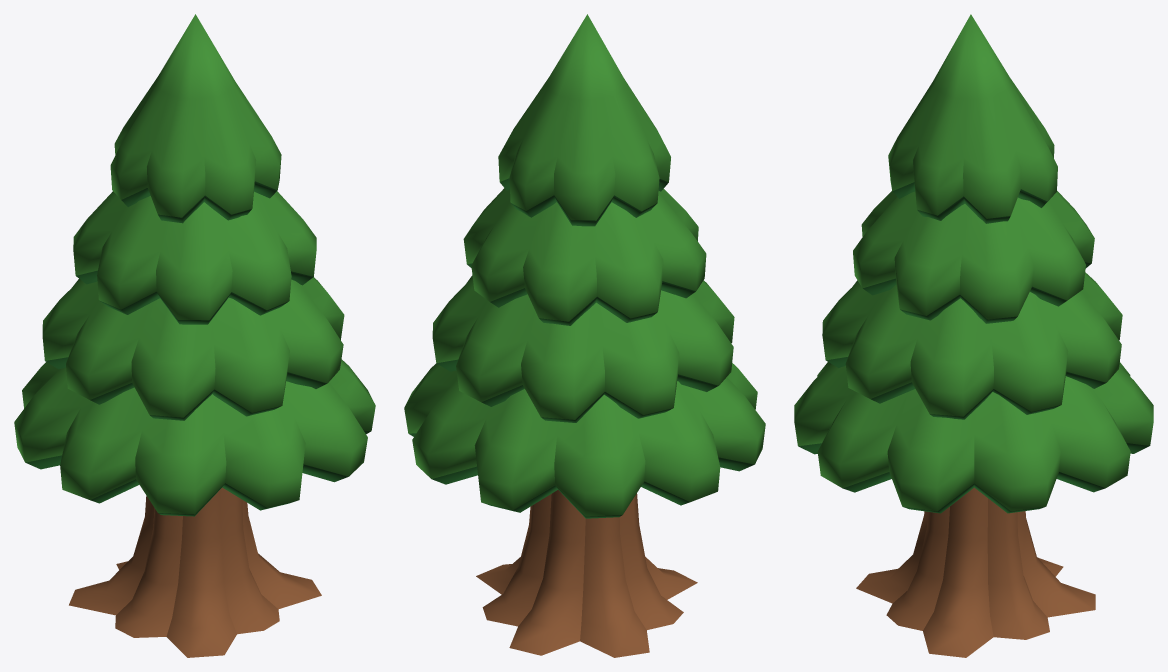
Rendered from tree_pine_low.glb.
The picture shows the model from 3 angles, left to right: view 1: azimuth 30°, elevation 25°; view 2: azimuth 150°, elevation 25°; view 3: azimuth 270°, elevation 25°; orthographic projection.
Visible parts, largest first — view 1: Tree; view 2: Tree; view 3: Tree.
Boxes of the visible parts, box(x1,y1,x2,y2) form: Tree: box(14, 14, 375, 657); Tree: box(404, 14, 765, 657); Tree: box(794, 14, 1153, 657).
Size of the model in its own units: 3.27 by 6 by 3.32.
